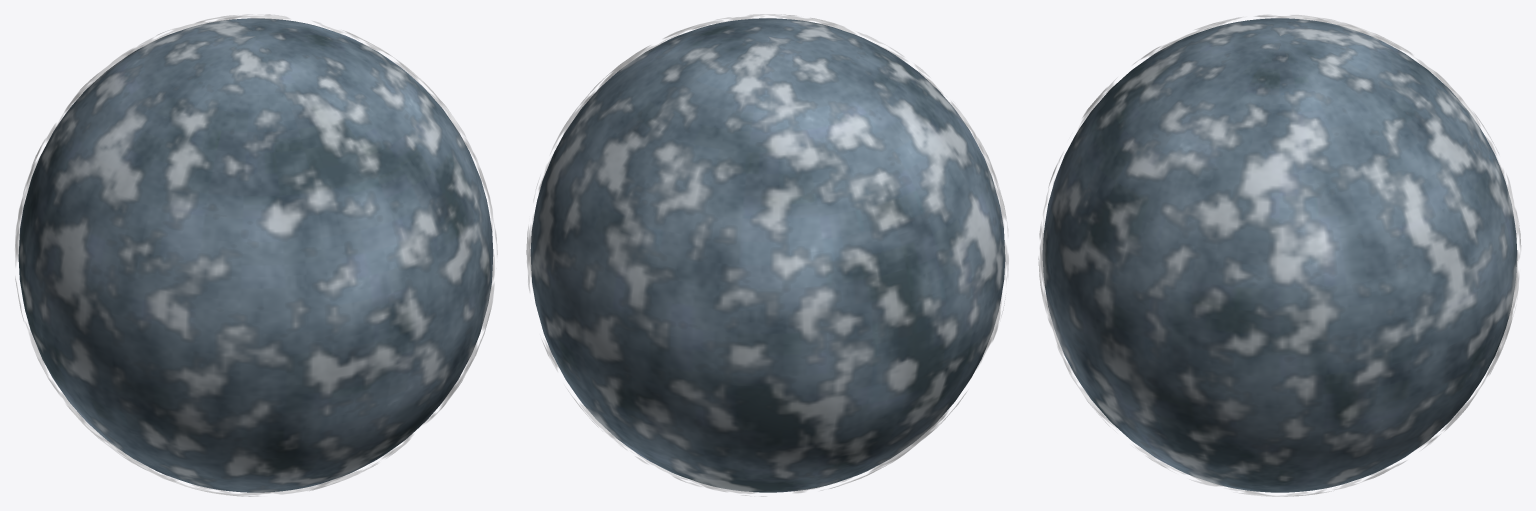
The model's file is planet_ice_002.glb.
3 views of the same model, side by side, from view 1: azimuth 30°, elevation 25°; view 2: azimuth 150°, elevation 25°; view 3: azimuth 270°, elevation 25° (orthographic).
Parts seen in each view (by area): view 1: Planet_ice_002.001, Clouds_ice_002.001; view 2: Planet_ice_002.001, Clouds_ice_002.001; view 3: Planet_ice_002.001, Clouds_ice_002.001.
Part boxes in pixels (x1=…): Planet_ice_002.001: x1=18, y1=18, x2=493, y2=492; Clouds_ice_002.001: x1=15, y1=14, x2=497, y2=496; Planet_ice_002.001: x1=530, y1=18, x2=1005, y2=492; Clouds_ice_002.001: x1=526, y1=14, x2=1008, y2=496; Planet_ice_002.001: x1=1042, y1=18, x2=1517, y2=492; Clouds_ice_002.001: x1=1038, y1=15, x2=1520, y2=496.
Bounding box in the file's own units: 2.04 × 2.04 × 2.04.
Materials: 2 (2 with a texture image).
